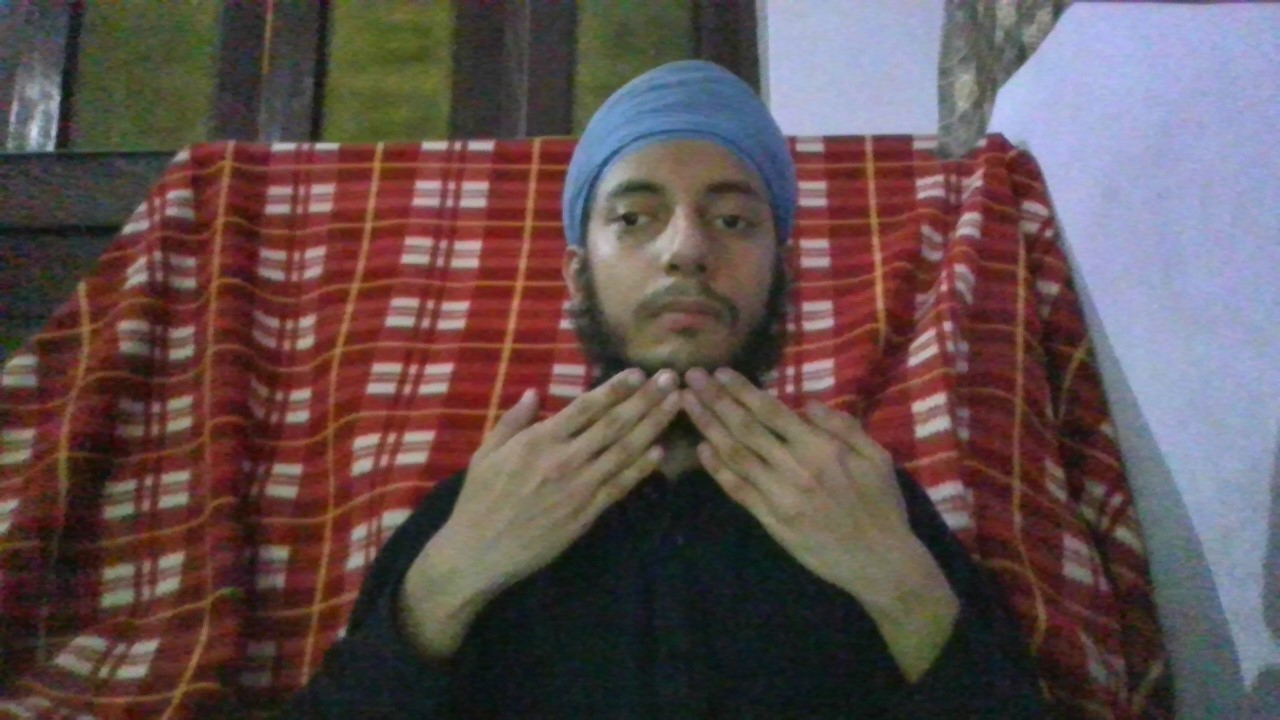Thank You: (458, 366, 907, 539)
